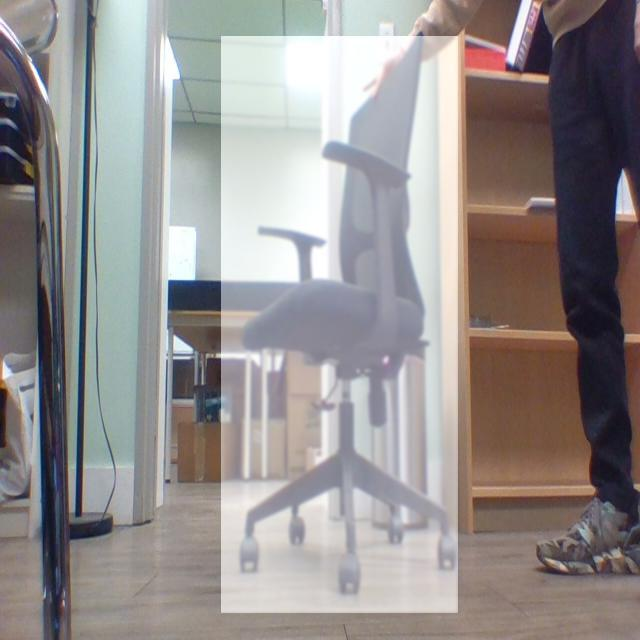chair: (221, 37, 459, 615)
